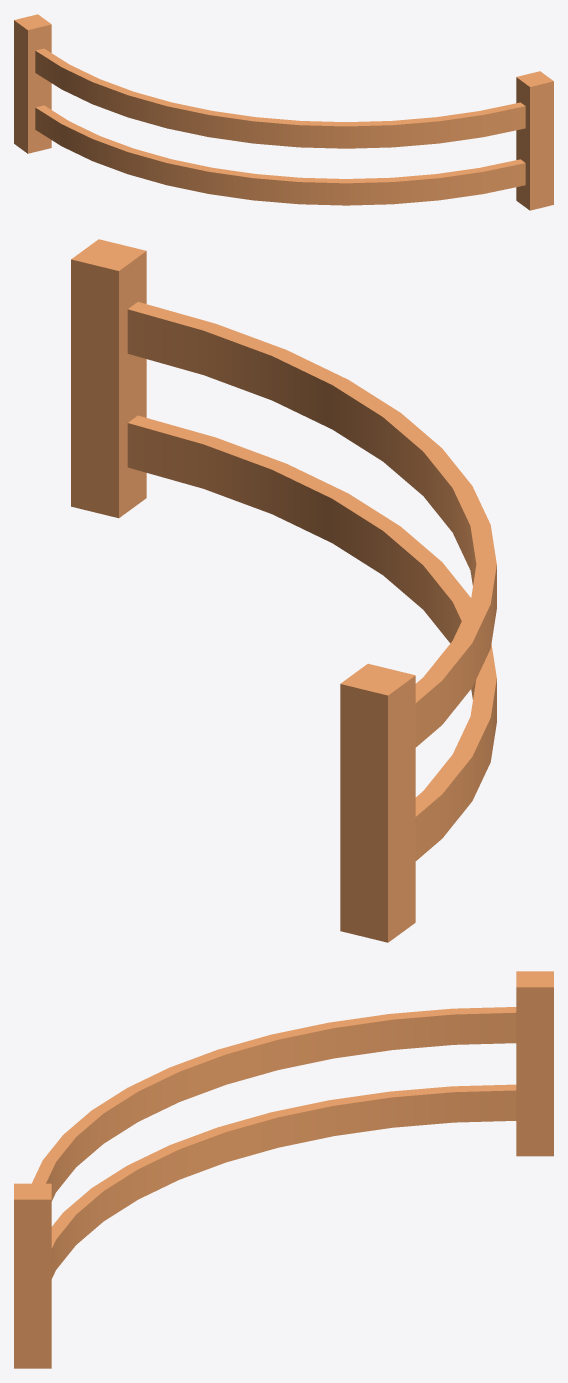
File: fence_cornerRound.obj
3 renders of one model, top to bottom at view 1: azimuth 30°, elevation 25°; view 2: azimuth 150°, elevation 25°; view 3: azimuth 270°, elevation 25°, orthographic. The views are drawn at different scales.
Parts seen in each view (by area): view 1: fence_cornerRound; view 2: fence_cornerRound; view 3: fence_cornerRound.
Part boxes in pixels (bbox=[...]): fence_cornerRound: bbox=[14, 14, 553, 210]; fence_cornerRound: bbox=[71, 239, 496, 942]; fence_cornerRound: bbox=[14, 971, 553, 1368].
Bounding box in the file's own units: 10 × 3.45 × 10.
